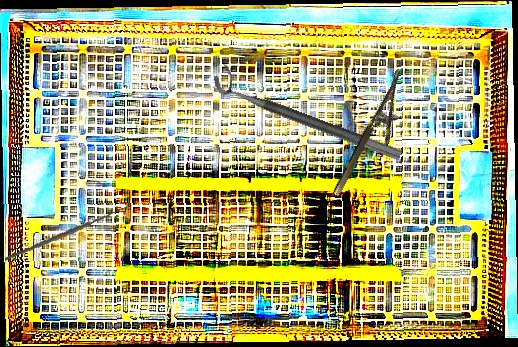Fixation Ring: (209, 61, 409, 163)
Hook Surgical: (4, 183, 131, 276)
Needle Holder: (331, 69, 421, 206)
